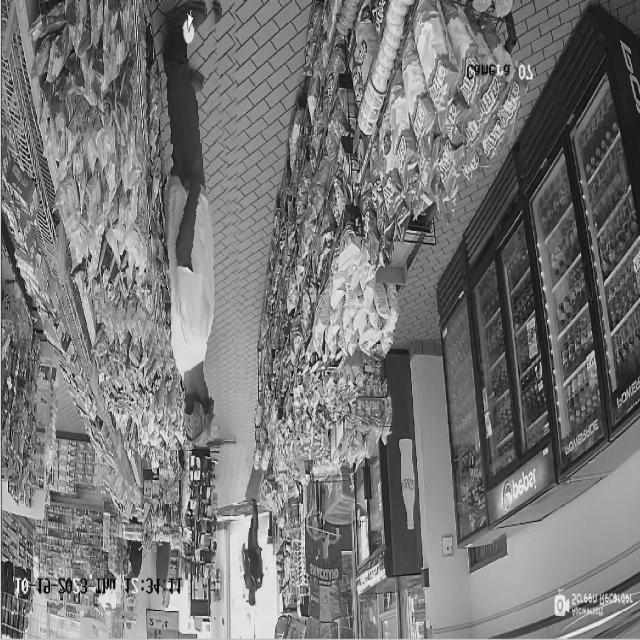Normal: (146, 0, 242, 449), (238, 497, 272, 618)
